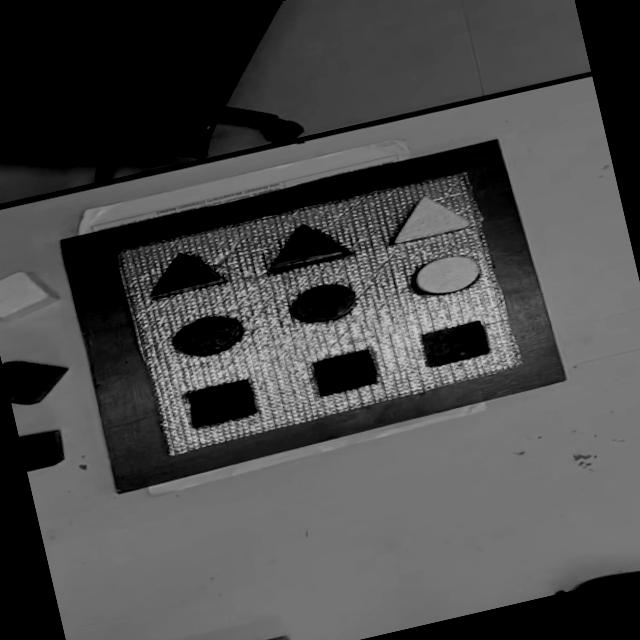bcircle: (166, 309, 248, 363)
bcube: (18, 424, 69, 472)
btriangle: (139, 242, 226, 300)
mtcube: (180, 374, 261, 430), (417, 318, 492, 370), (308, 346, 381, 398)
rcircle: (288, 276, 361, 328)
rcube: (1, 348, 76, 410)
rtriangle: (258, 213, 352, 274)
wb: (110, 164, 530, 458)
ycircle: (408, 248, 486, 302)
ycube: (0, 263, 61, 325)
ytriangle: (382, 184, 474, 247)
